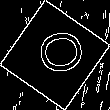O_W: (26, 29, 84, 81)
